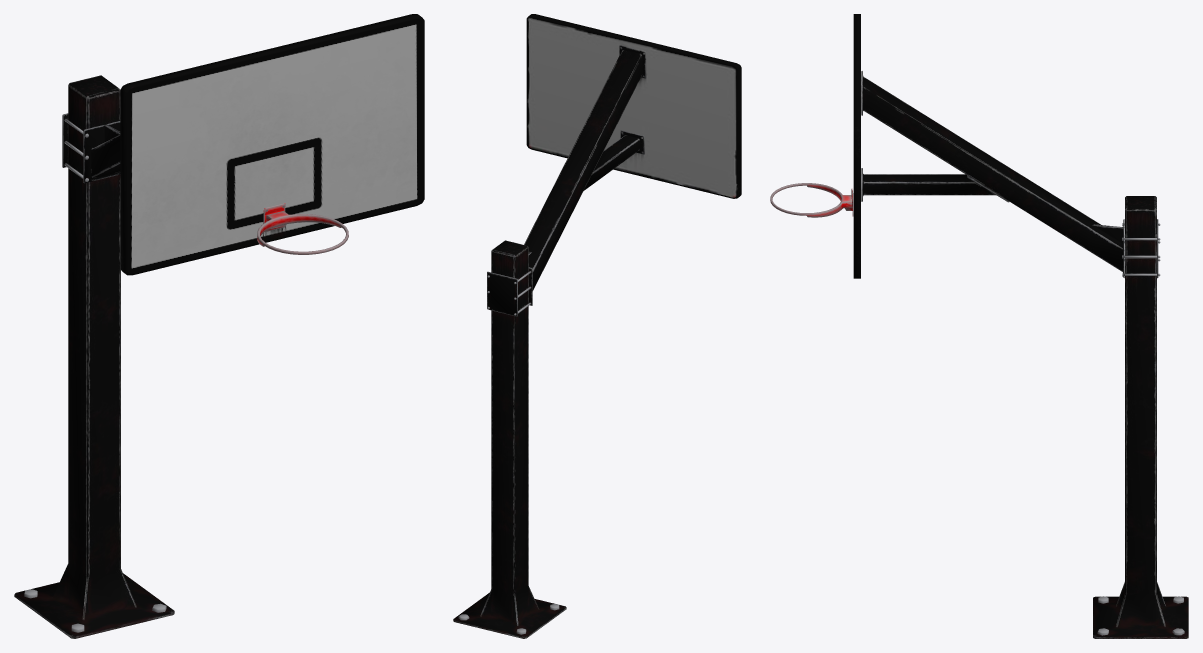
File: basketball_hoop.gltf
3 renders of one model, left to right at view 1: azimuth 30°, elevation 25°; view 2: azimuth 150°, elevation 25°; view 3: azimuth 270°, elevation 25°, orthographic. The views are drawn at different scales.
Parts seen in each view (by area): view 1: basketball_hoop; view 2: basketball_hoop; view 3: basketball_hoop.
Part boxes in pixels (bbox=[...]): basketball_hoop: bbox=[14, 14, 424, 638]; basketball_hoop: bbox=[453, 14, 741, 638]; basketball_hoop: bbox=[770, 14, 1188, 638].
Size of the model in its own units: 1.81 by 3.95 by 2.73.
1 material, 1 textured.
